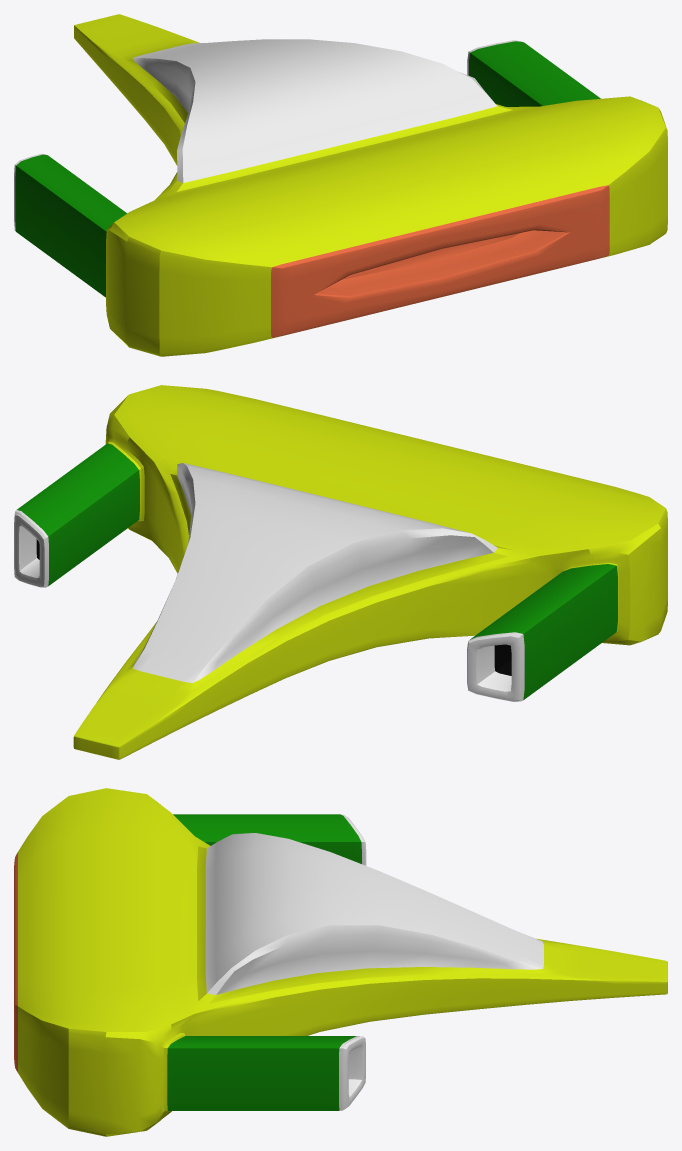
The model's file is Frog.fbx.
The picture shows the model from 3 angles, top to bottom: view 1: azimuth 30°, elevation 25°; view 2: azimuth 150°, elevation 25°; view 3: azimuth 270°, elevation 25°; orthographic projection. The views are drawn at different scales.
Visible parts, largest first — view 1: Cube; view 2: Cube; view 3: Cube.
Part boxes in pixels (bbox=[...]): Cube: bbox=[14, 14, 667, 356]; Cube: bbox=[14, 385, 667, 759]; Cube: bbox=[14, 788, 667, 1136].
Bounding box in the file's own units: 1157 × 285 × 1298.
